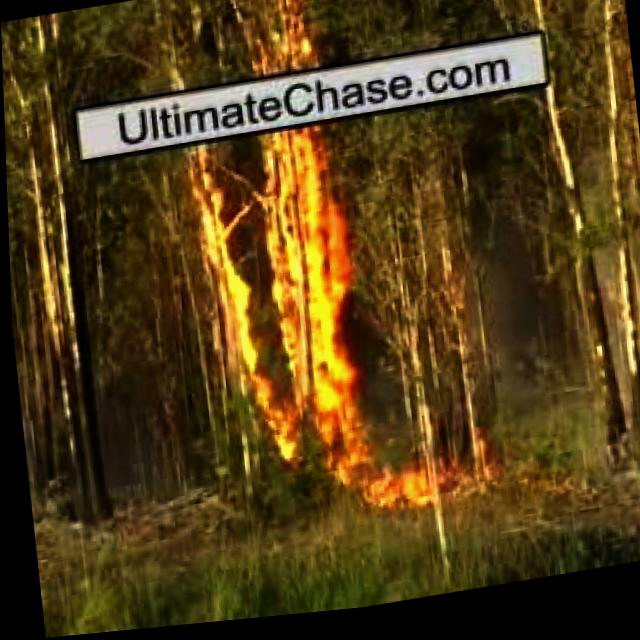Fire: (179, 125, 385, 471), (318, 431, 442, 540), (239, 0, 319, 80)
